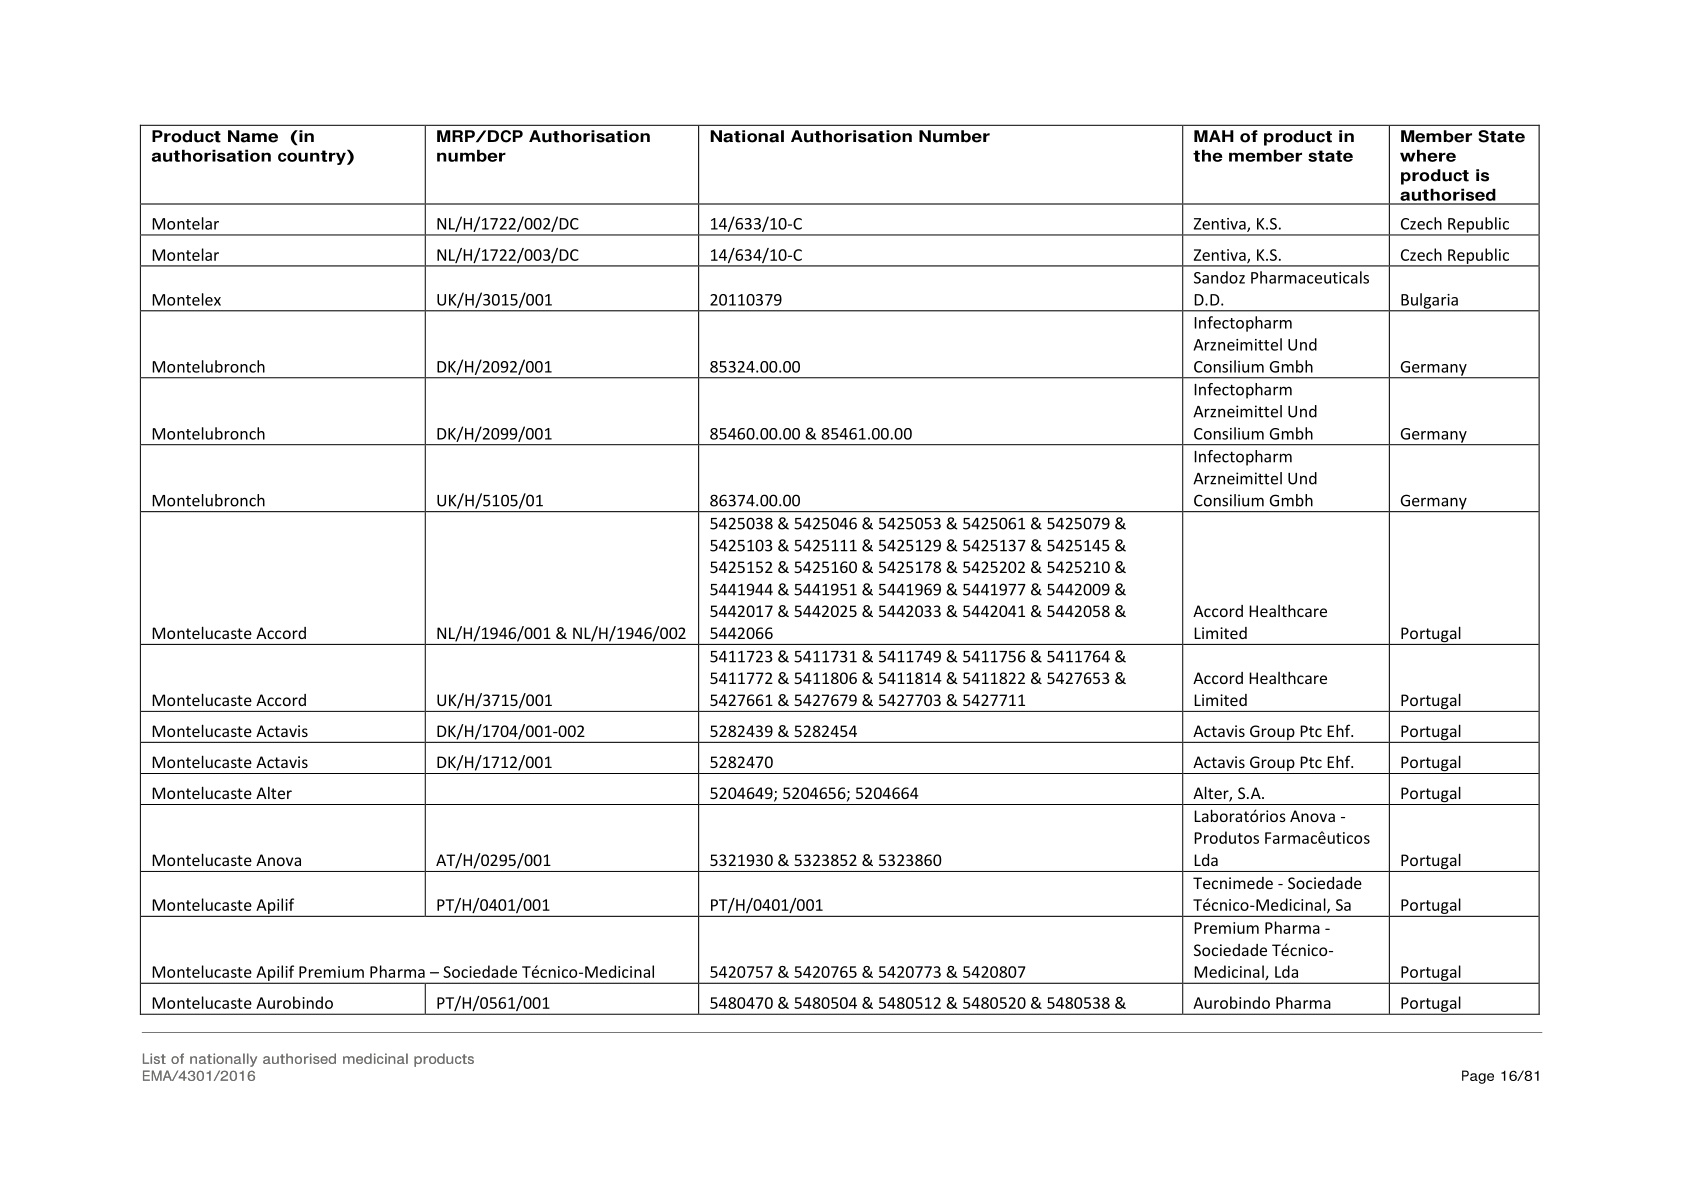merged_cells: (139, 124, 1540, 1014)
